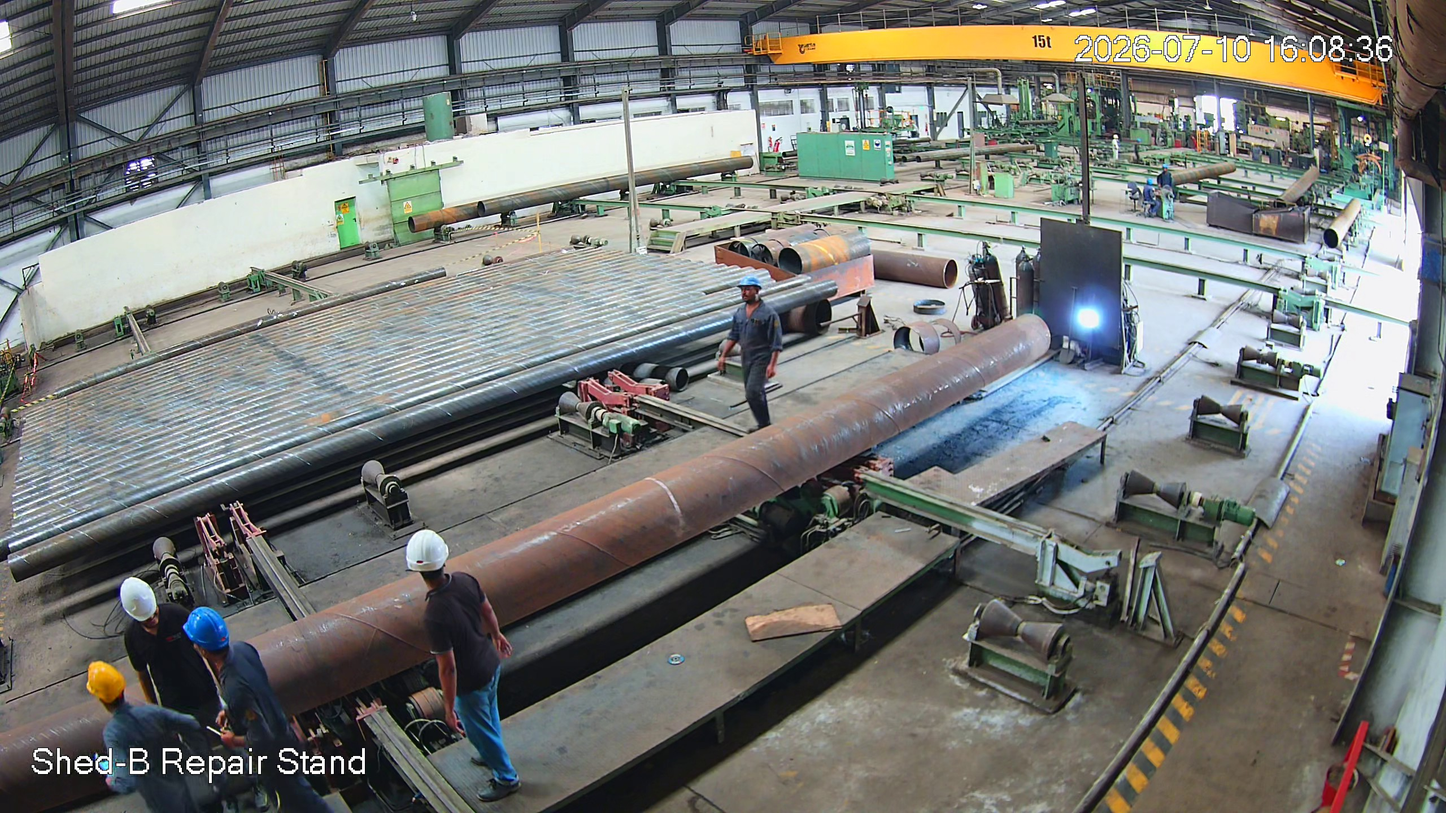Helmet: (398, 515, 482, 600), (108, 566, 184, 659), (77, 659, 147, 739), (182, 598, 246, 680), (732, 269, 765, 308)
Person: (399, 527, 537, 813), (187, 601, 336, 813), (79, 665, 228, 813), (105, 572, 228, 746), (731, 273, 781, 438)
